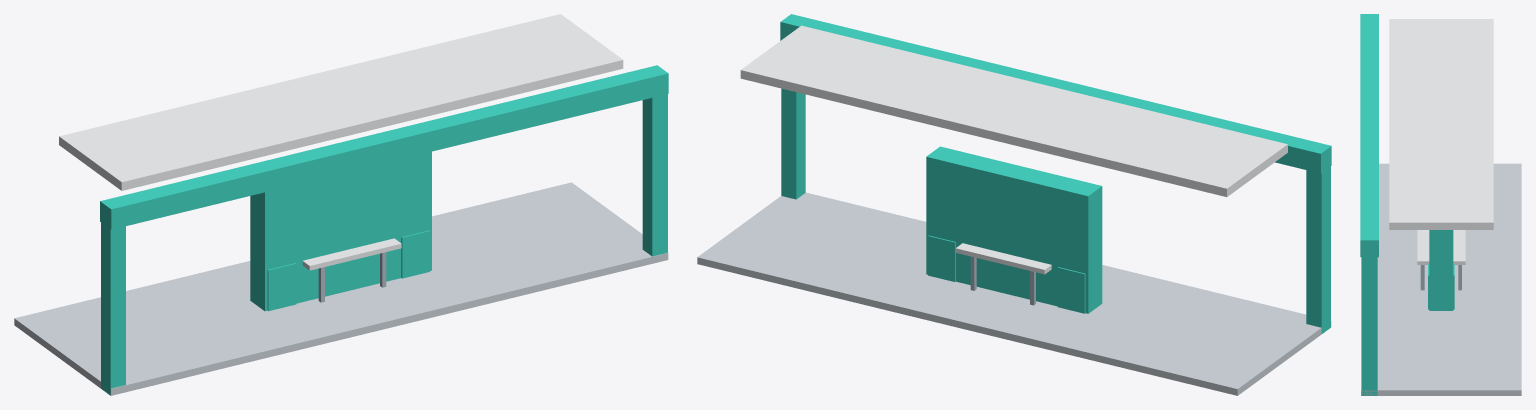
3 renders of one model, left to right at view 1: azimuth 30°, elevation 25°; view 2: azimuth 150°, elevation 25°; view 3: azimuth 270°, elevation 25°, orthographic. The views are drawn at different scales.
Parts seen in each view (by area): view 1: Exhibition Booth Concept; view 2: Exhibition Booth Concept; view 3: Exhibition Booth Concept.
Part boxes in pixels (x1,y1,x2,y2): Exhibition Booth Concept: [14, 14, 668, 395]; Exhibition Booth Concept: [697, 14, 1331, 395]; Exhibition Booth Concept: [1360, 14, 1521, 395].
Size of the model in its own units: 10 by 3.34 by 3.01.
